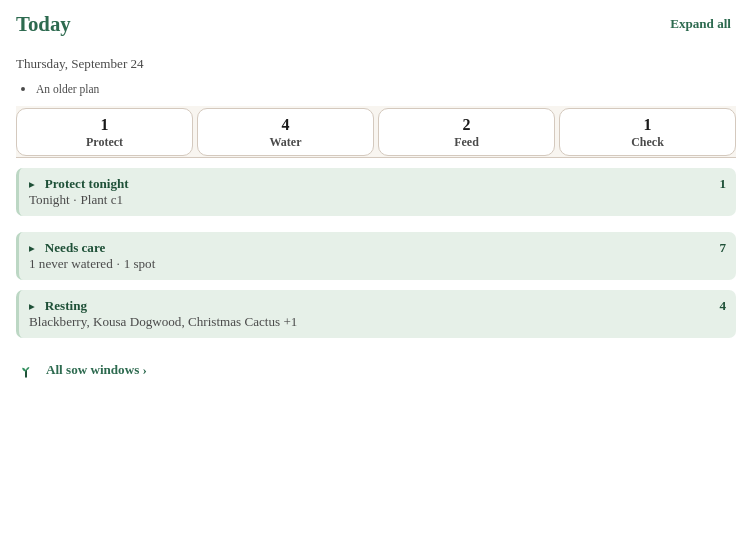
Test: TodayV2 page states › D-5: a day with care due still says it, at the foot of the opened Needs care body
Click the button "▸ Needs care 7 1 never watered · 1 spot" at (75, 248), box [19,232,736,280]
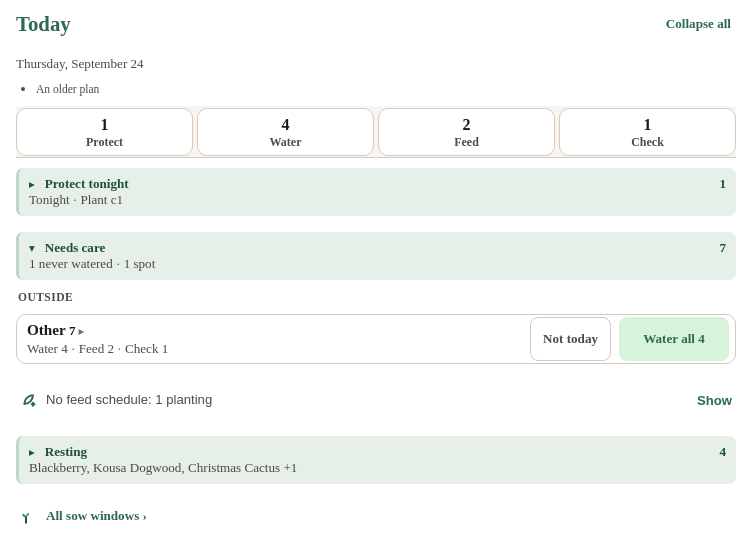
Check: the element with test id "care-feed-suppressed" shows "No feed schedule: 1 planting", box [18,378,734,422]
